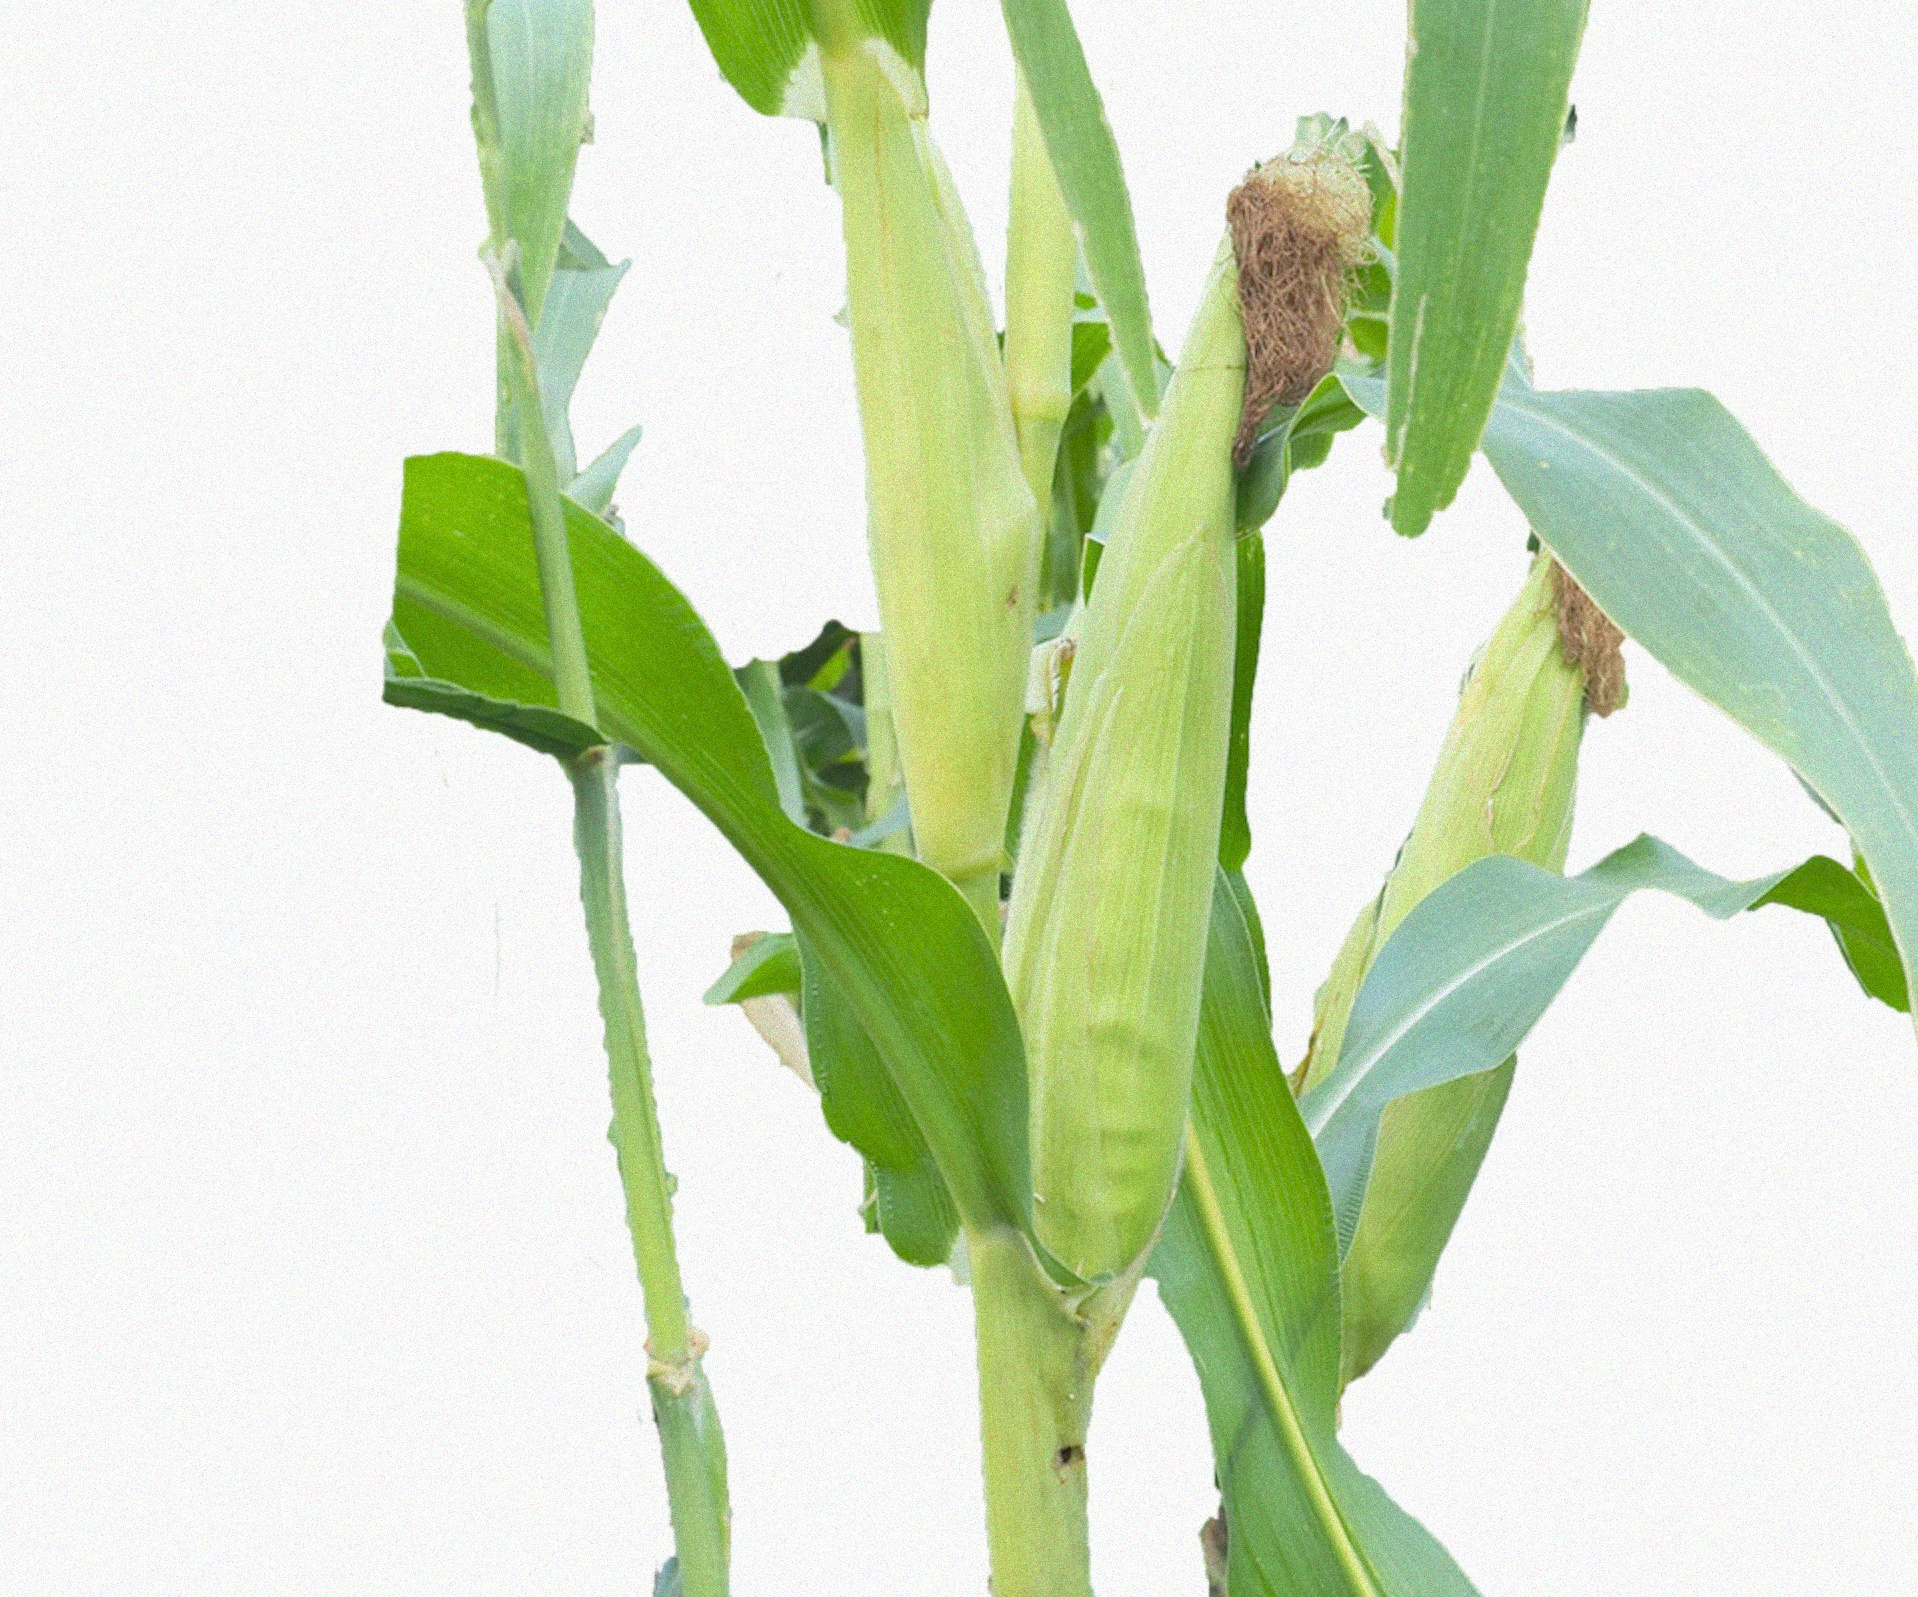corn_plant: (1262, 421, 1693, 1455), (989, 121, 1332, 1415), (774, 13, 1031, 1253)
